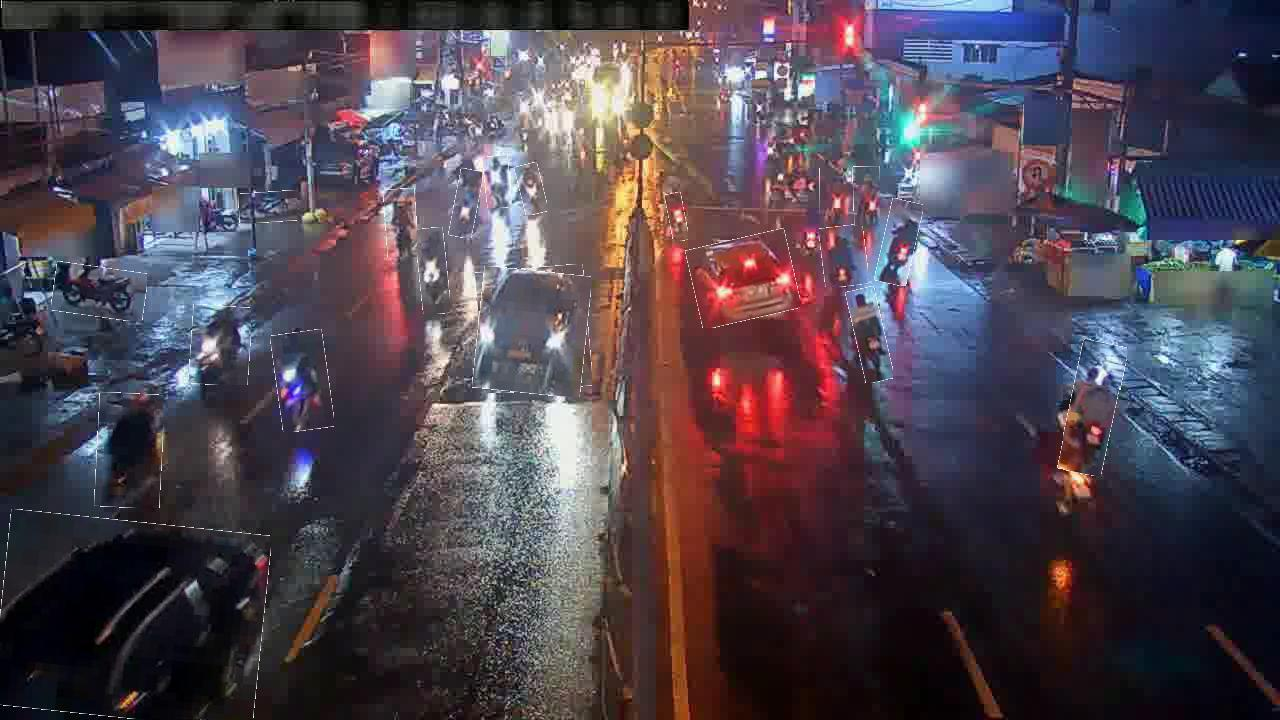container: (0, 515, 267, 719), (475, 268, 589, 396), (689, 233, 798, 324)
motorbike: (478, 266, 591, 392), (1064, 340, 1122, 476), (96, 393, 163, 509), (274, 330, 332, 432), (53, 264, 147, 319), (190, 305, 251, 386), (850, 287, 889, 383), (878, 200, 920, 286), (820, 225, 868, 287), (417, 228, 449, 315), (384, 189, 417, 258), (451, 169, 480, 239), (239, 191, 298, 223), (819, 168, 856, 216), (853, 166, 881, 227), (517, 163, 546, 215), (484, 156, 511, 208), (667, 193, 687, 242)
